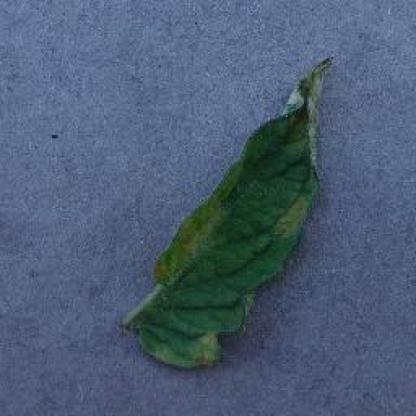Tomato_Leaf_Mold: (133, 56, 330, 368)
